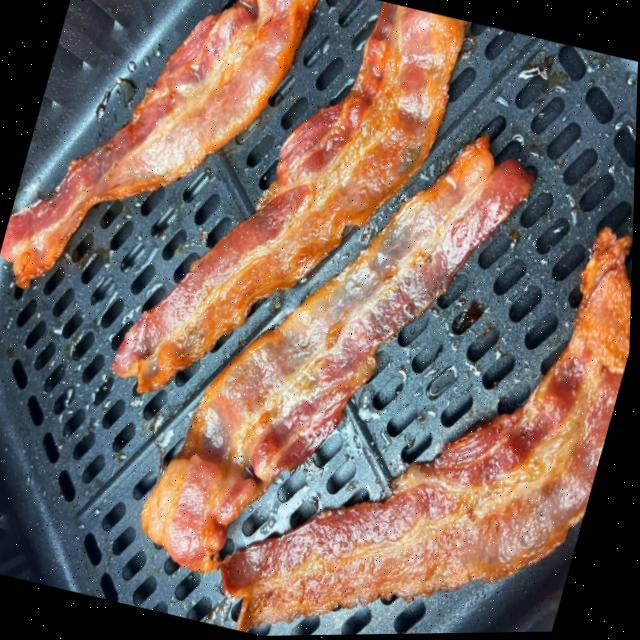Bacon: (144, 139, 534, 573), (225, 228, 633, 629), (114, 4, 465, 393), (2, 0, 317, 286)
